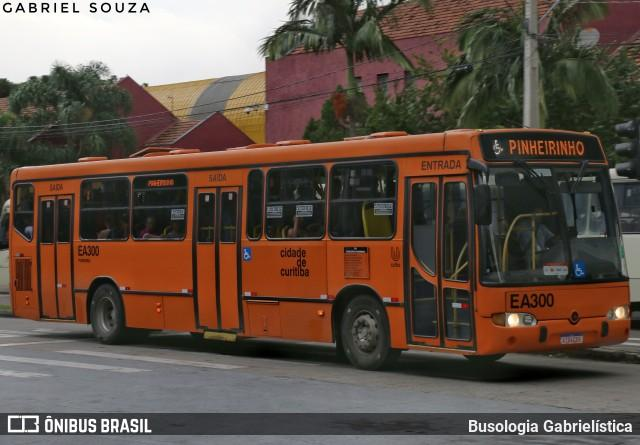PINHEIRINHO: (504, 137, 590, 159)
